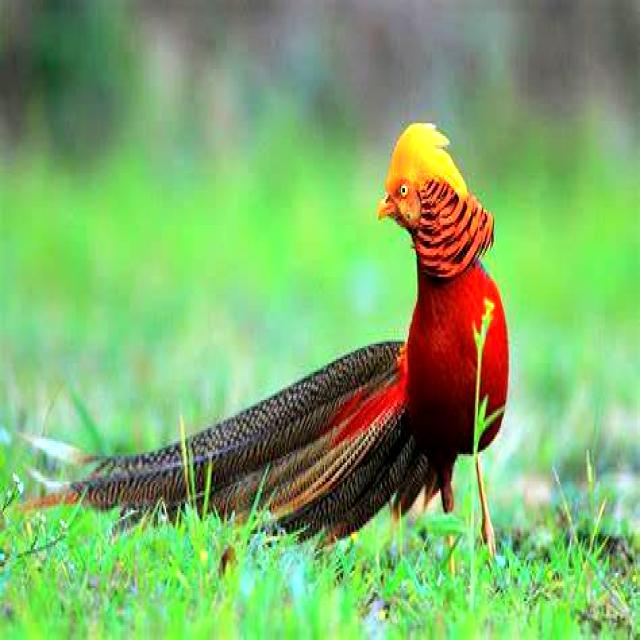Chrysolophus pictus feather: (59, 342, 429, 538)
